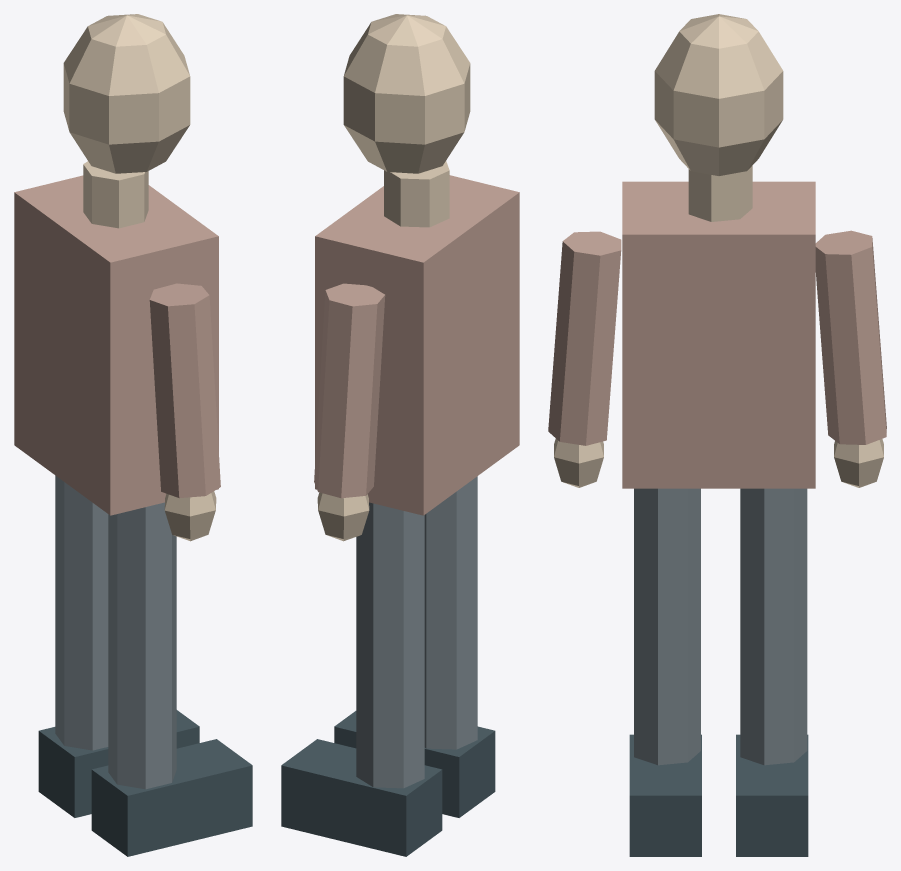
The model's file is person.glb.
3 views of the same model, side by side, from view 1: azimuth 30°, elevation 25°; view 2: azimuth 150°, elevation 25°; view 3: azimuth 270°, elevation 25° (orthographic).
Visible parts, largest first — view 1: person; view 2: person; view 3: person.
Part boxes in pixels (box(x1,y1,x2,y2)): person: box(14, 14, 252, 856); person: box(281, 14, 519, 856); person: box(548, 14, 886, 856).
Size of the model in its own units: 0.35 by 1.83 by 0.7014.
